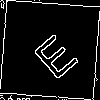E: (25, 25, 81, 82)
